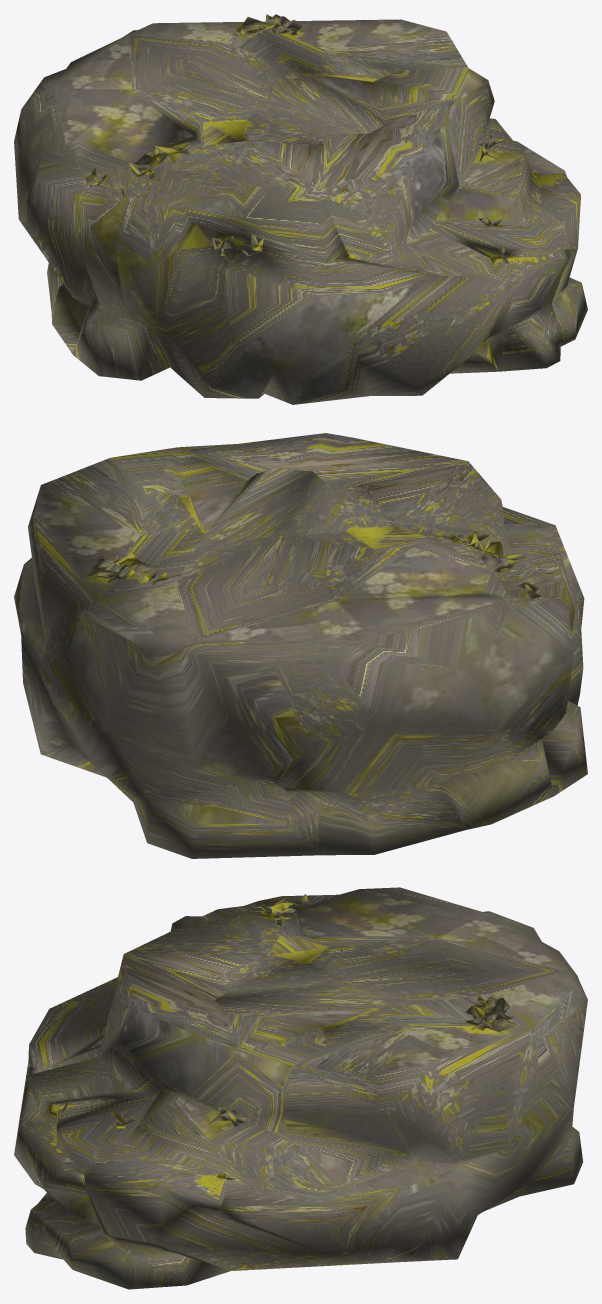
Rendered from rock_table.glb.
3 views of the same model, one above another, from view 1: azimuth 30°, elevation 25°; view 2: azimuth 150°, elevation 25°; view 3: azimuth 270°, elevation 25° (orthographic). The views are drawn at different scales.
Bounding box in the file's own units: 0.9565 × 0.3799 × 0.9276.
1 material, 1 textured.
